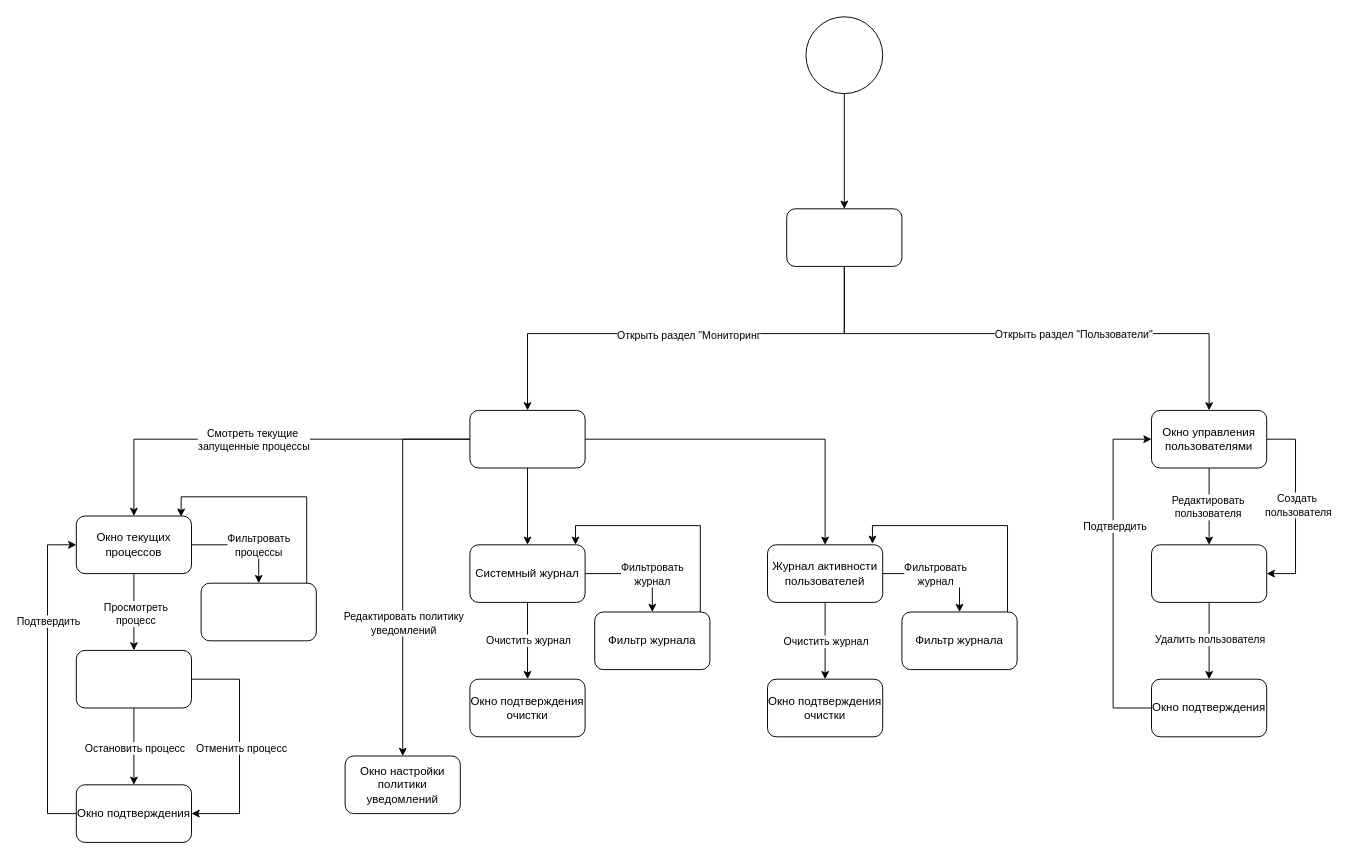
The diagram is 1348 pixels wide and 859 high, and some of its shapes have lost their labels. The box of each missing label's shape, as (x1, y1, x2, y2) in pixels:
Окно мониторинга системы: (469, 409, 585, 468)
Окно просмотра процесса: (75, 649, 192, 708)
Окно редактирования пользователя: (1151, 544, 1267, 602)
Панель администратора: (786, 208, 902, 266)
Фильтр процессов: (200, 582, 316, 641)
